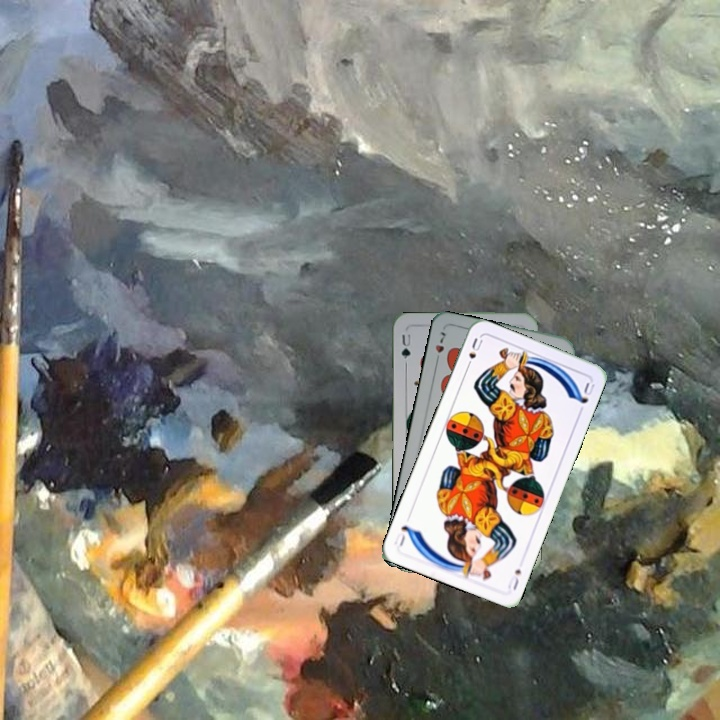GU: (397, 330, 413, 368)
H7: (431, 327, 448, 366)
SU: (462, 334, 485, 372), (504, 565, 524, 593)
